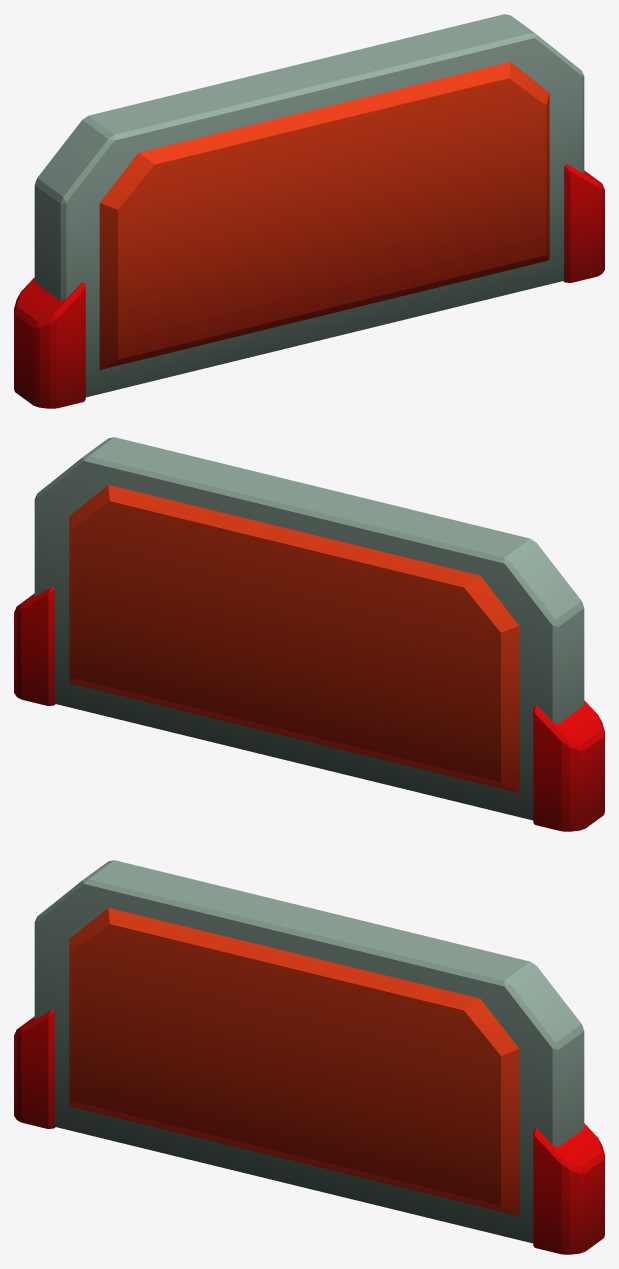
The model's file is cover-1_001.fbx.
The picture shows the model from 3 angles, top to bottom: view 1: azimuth 30°, elevation 25°; view 2: azimuth 150°, elevation 25°; view 3: azimuth 330°, elevation 25°; orthographic projection.
Visible parts, largest first — view 1: cover-1.001; view 2: cover-1.001; view 3: cover-1.001.
Part boxes in pixels (<box>): cover-1.001: <box>14,14,604,408</box>; cover-1.001: <box>14,437,604,831</box>; cover-1.001: <box>14,860,604,1254</box>.
Size of the model in its own units: 462 by 197 by 63.23.
